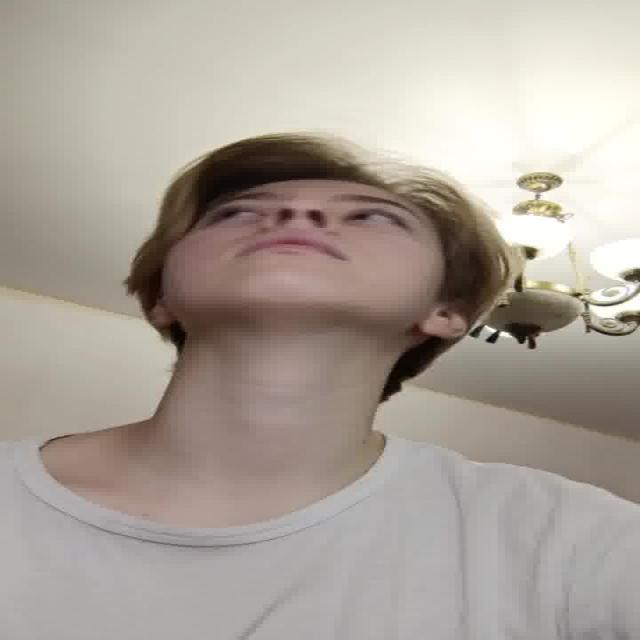earlobe: (150, 308, 177, 328), (414, 322, 452, 336)
eye: (345, 210, 407, 228), (209, 206, 269, 222)
nose: (268, 218, 335, 240)
wholeear: (423, 306, 471, 338)
